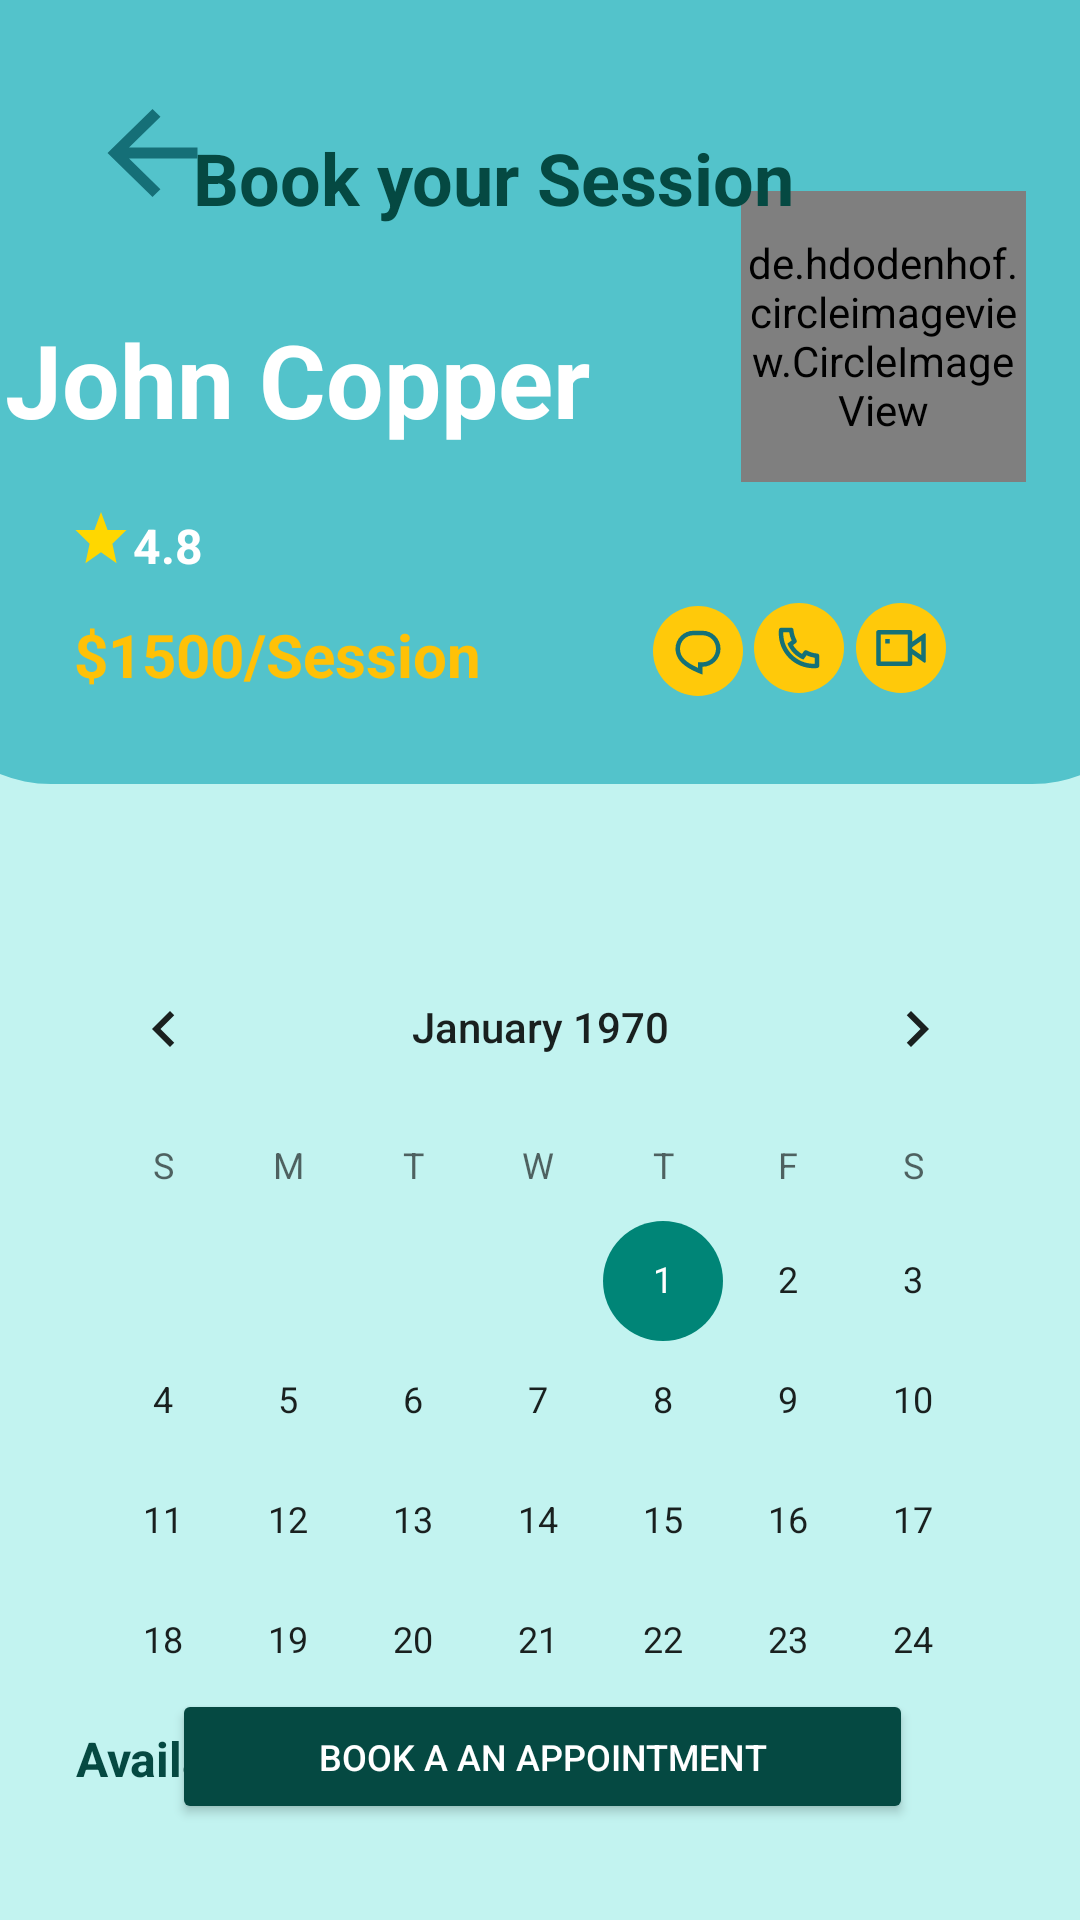

Icons on this 1080x1920 Android screen, each with the point to tap as (x=x, y=y):
audiocall: (x=799, y=648)
videocall: (x=901, y=648)
yellowstar: (x=101, y=537)
